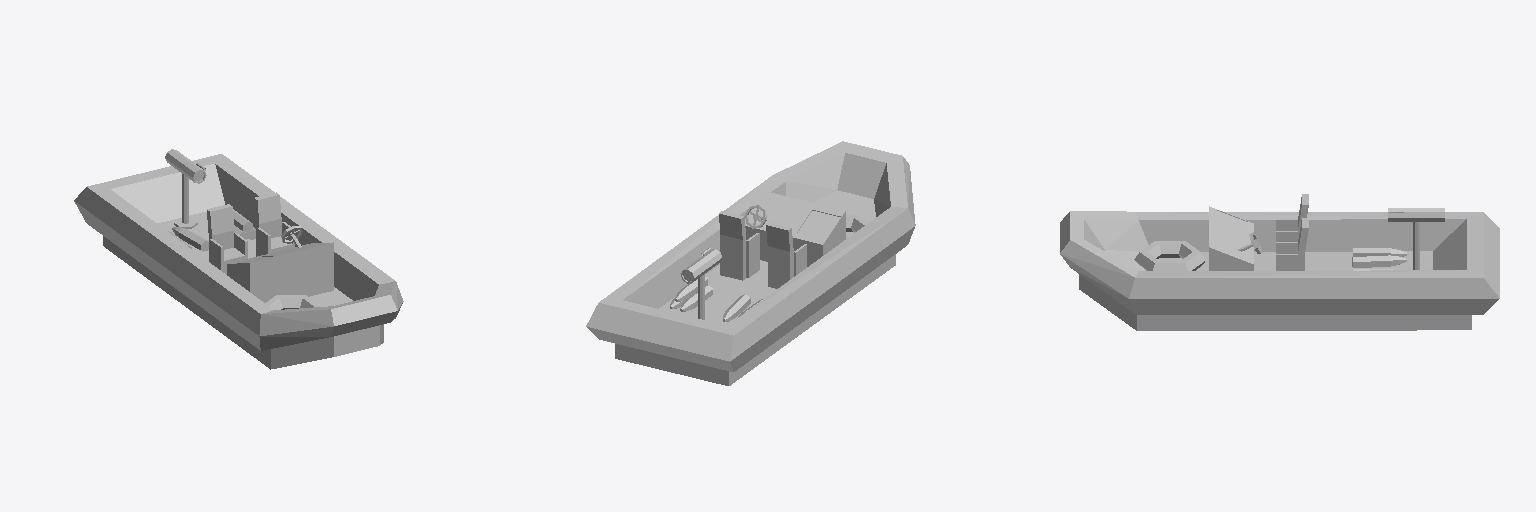
The model's file is MilitaryBoat.obj.
3 renders of one model, left to right at view 1: azimuth 30°, elevation 25°; view 2: azimuth 150°, elevation 25°; view 3: azimuth 270°, elevation 25°, orthographic.
Visible parts, largest first — view 1: Boat_Cylinder.005; view 2: Boat_Cylinder.005; view 3: Boat_Cylinder.005.
Part boxes in pixels (left/top/right/bottom): Boat_Cylinder.005: left=74, top=149, right=403, bottom=369; Boat_Cylinder.005: left=586, top=141, right=915, bottom=385; Boat_Cylinder.005: left=1060, top=194, right=1499, bottom=330.
Size of the model in its own units: 10.01 by 6.29 by 26.46.